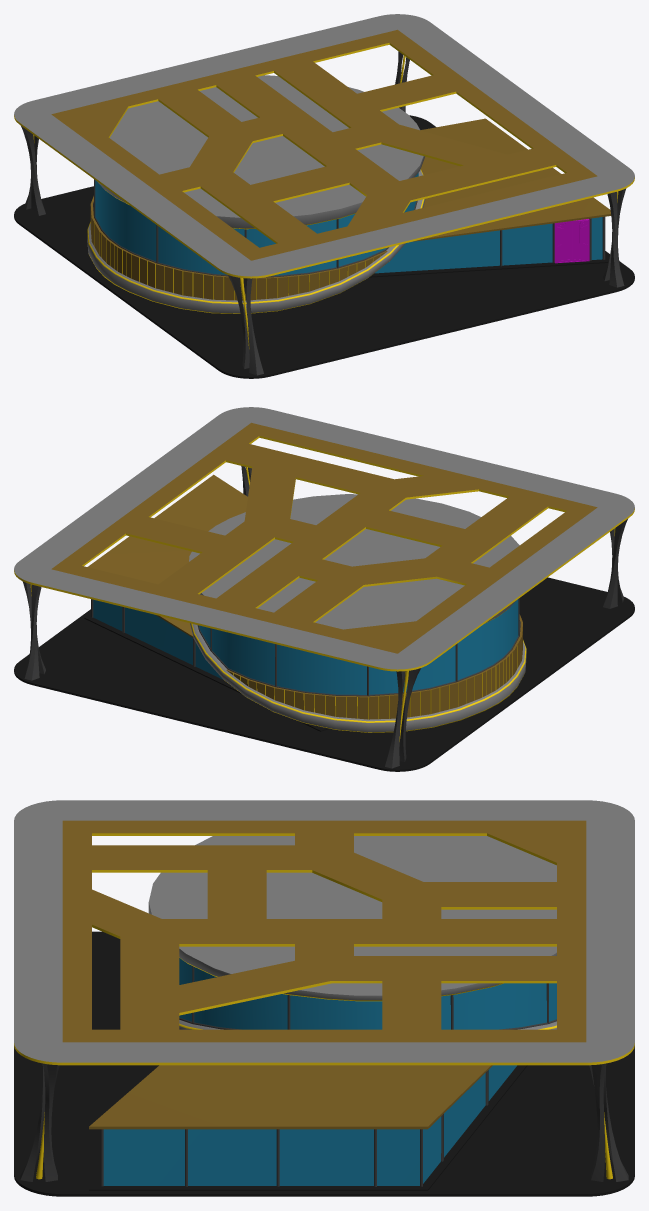
3 renders of one model, top to bottom at view 1: azimuth 30°, elevation 25°; view 2: azimuth 150°, elevation 25°; view 3: azimuth 270°, elevation 25°, orthographic. The views are drawn at different scales.
Visible parts, largest first — view 1: SM_MK13_Base_001; view 2: SM_MK13_Base_001; view 3: SM_MK13_Base_001.
Part boxes in pixels (x1,y1,x2,y2): SM_MK13_Base_001: (14, 14, 634, 378); SM_MK13_Base_001: (14, 407, 634, 771); SM_MK13_Base_001: (14, 800, 634, 1196).
Size of the model in its own units: 2100 by 500 by 2100.
